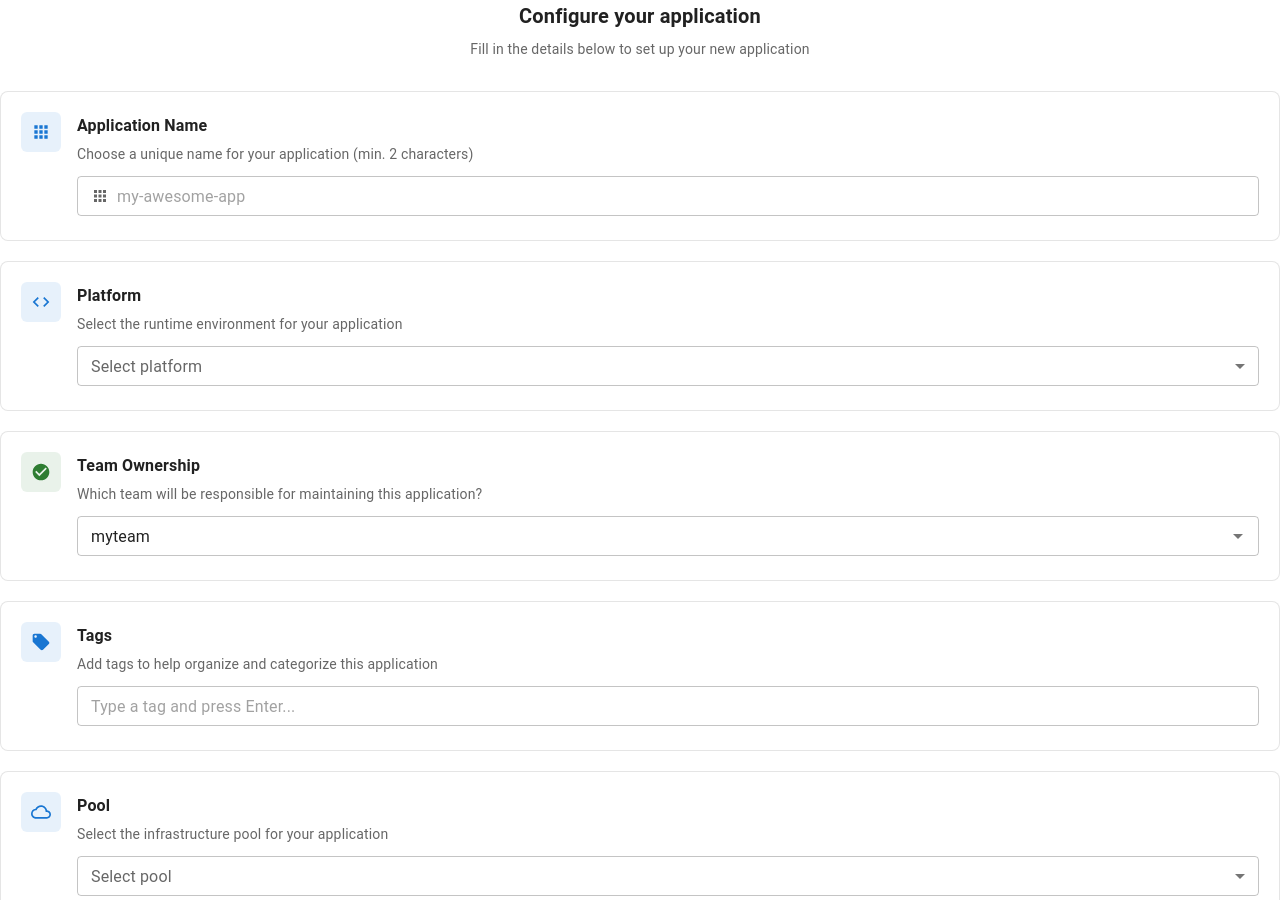
AppConfigurationStep › offers the pools of the team directly when no pool groups are configured
The image size is (1280, 900).
Expected: the heading "Pool" is shown, [77, 792, 110, 820]
Press the mouse on the dropdown named "Select pool" next to "Select pool": (668, 876) [77, 856, 1259, 896]
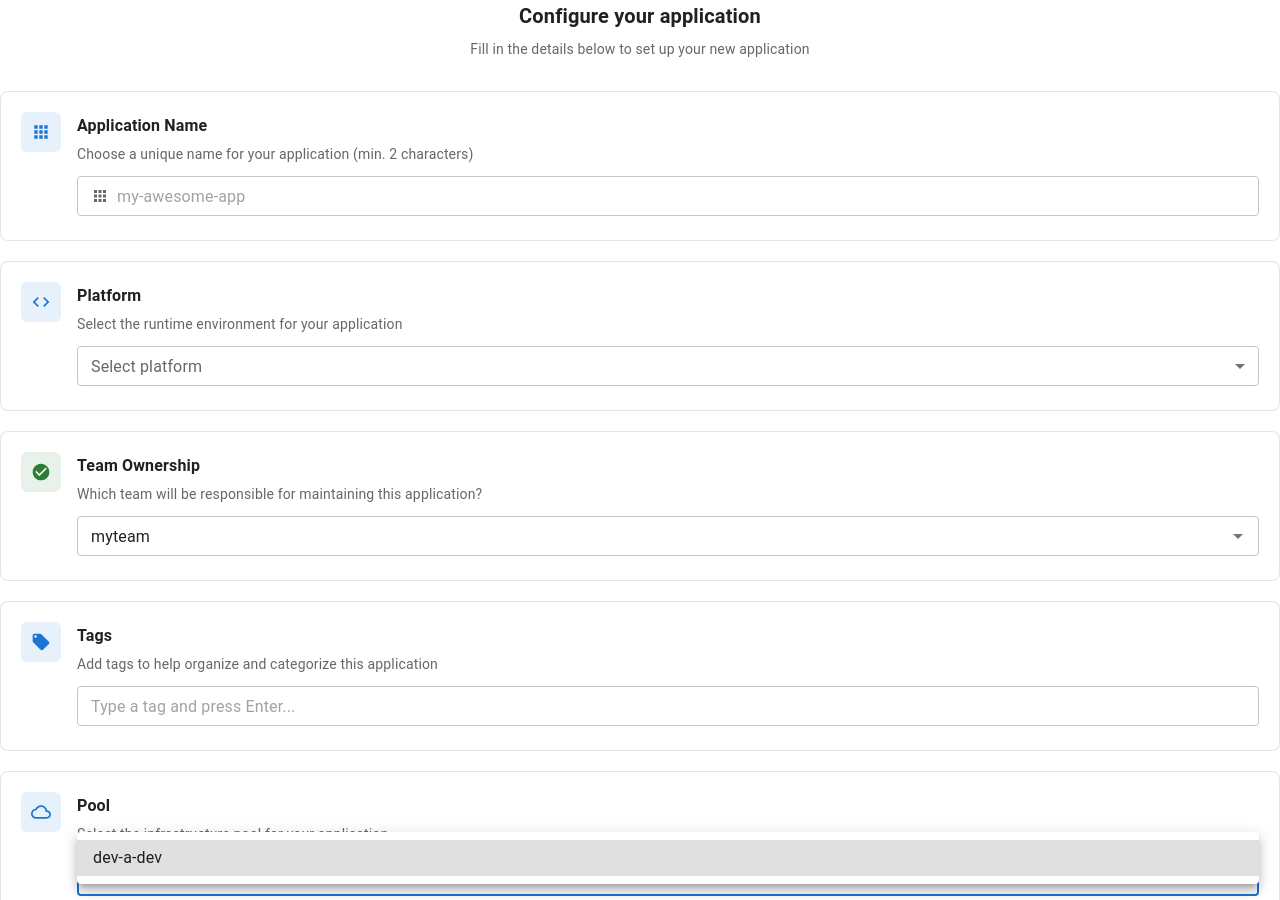
Result: the options read "dev-a-dev", in this order at [77, 840, 1259, 876]
